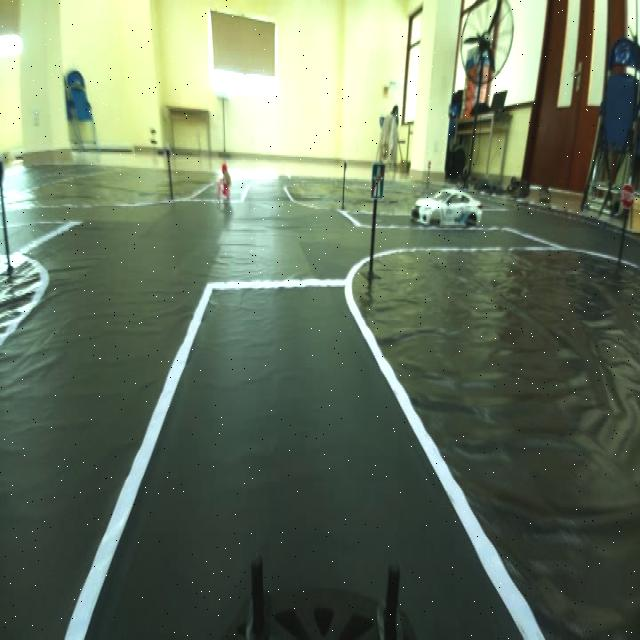highway_exit: (368, 156, 388, 205)
